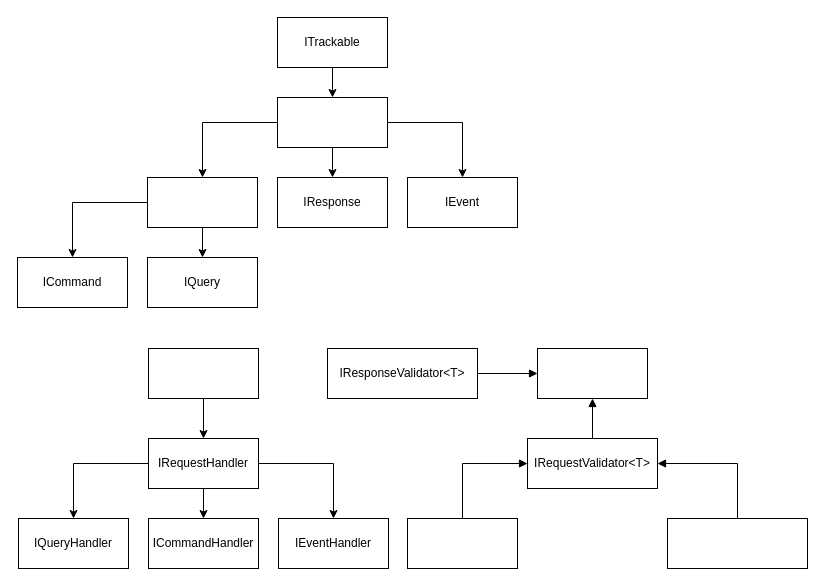
Image size: 825x586. Some labels were removed from this diagram. Here are the shapes that lost their labels. From the top down, the centre of each, then its label:
(x=332, y=122): ITrigger
(x=202, y=202): IRequest
(x=203, y=373): IHandler
(x=592, y=373): IValidator<T>
(x=462, y=543): IQueryValidator<T>
(x=737, y=543): ICommandValidator<T>
